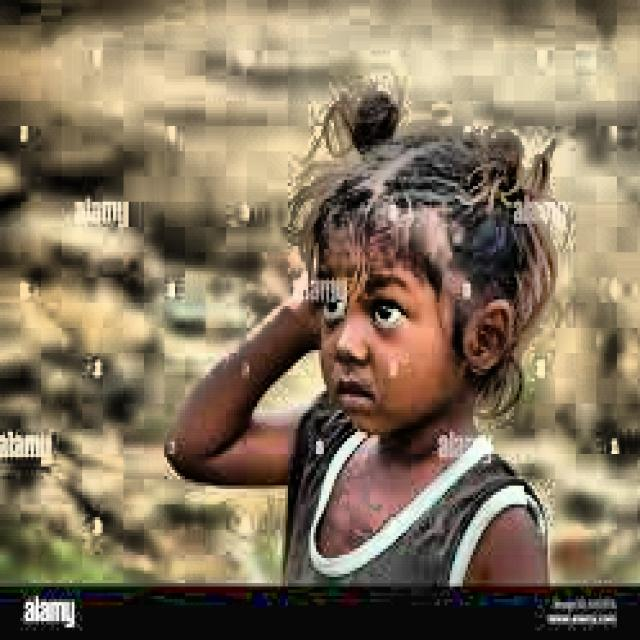Human: (159, 97, 578, 600)
